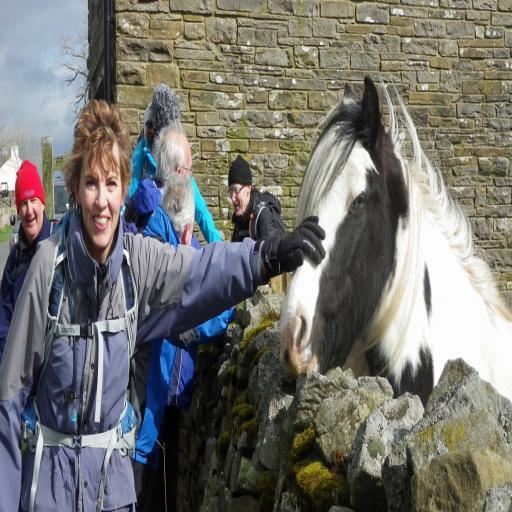horse: (276, 73, 511, 407)
